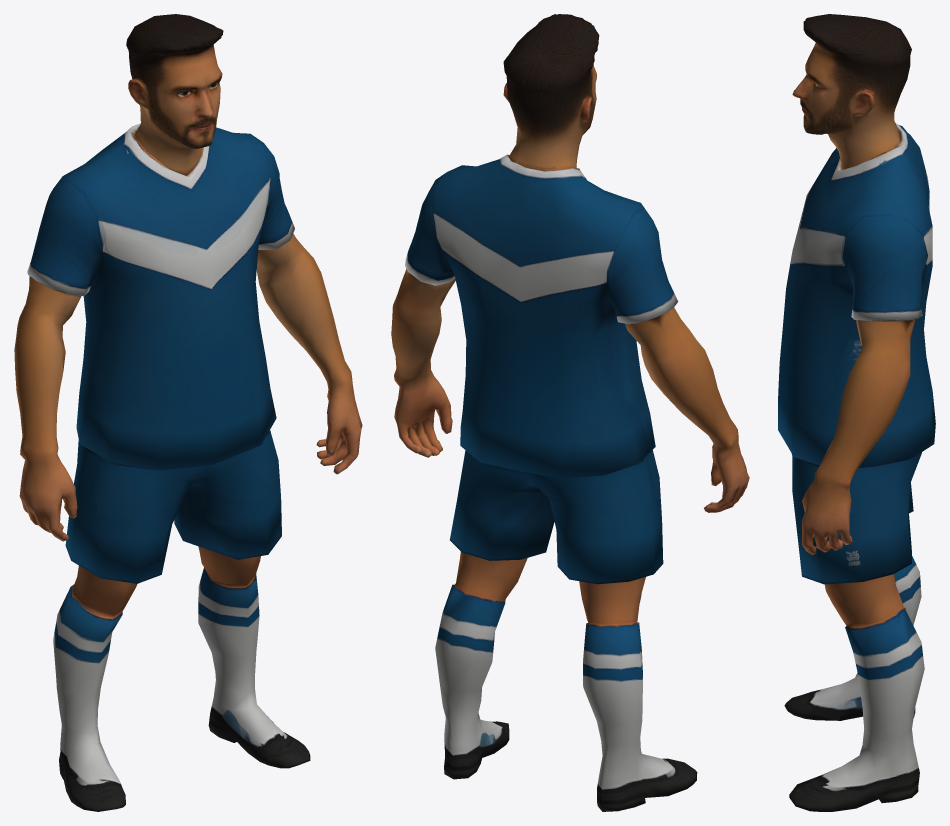
File: selected.glb
3 renders of one model, left to right at view 1: azimuth 30°, elevation 25°; view 2: azimuth 150°, elevation 25°; view 3: azimuth 270°, elevation 25°, orthographic.
Parts seen in each view (by area): view 1: tripo_node_a57c95c4-b58a-4d36-a5d0-9e77370e001f; view 2: tripo_node_a57c95c4-b58a-4d36-a5d0-9e77370e001f; view 3: tripo_node_a57c95c4-b58a-4d36-a5d0-9e77370e001f.
Part boxes in pixels (<box>): tripo_node_a57c95c4-b58a-4d36-a5d0-9e77370e001f: <box>14,14,362,811</box>; tripo_node_a57c95c4-b58a-4d36-a5d0-9e77370e001f: <box>391,14,749,811</box>; tripo_node_a57c95c4-b58a-4d36-a5d0-9e77370e001f: <box>778,14,935,811</box>.
Size of the model in its own units: 0.4746 by 0.998 by 0.1934.
1 material, 1 textured.
